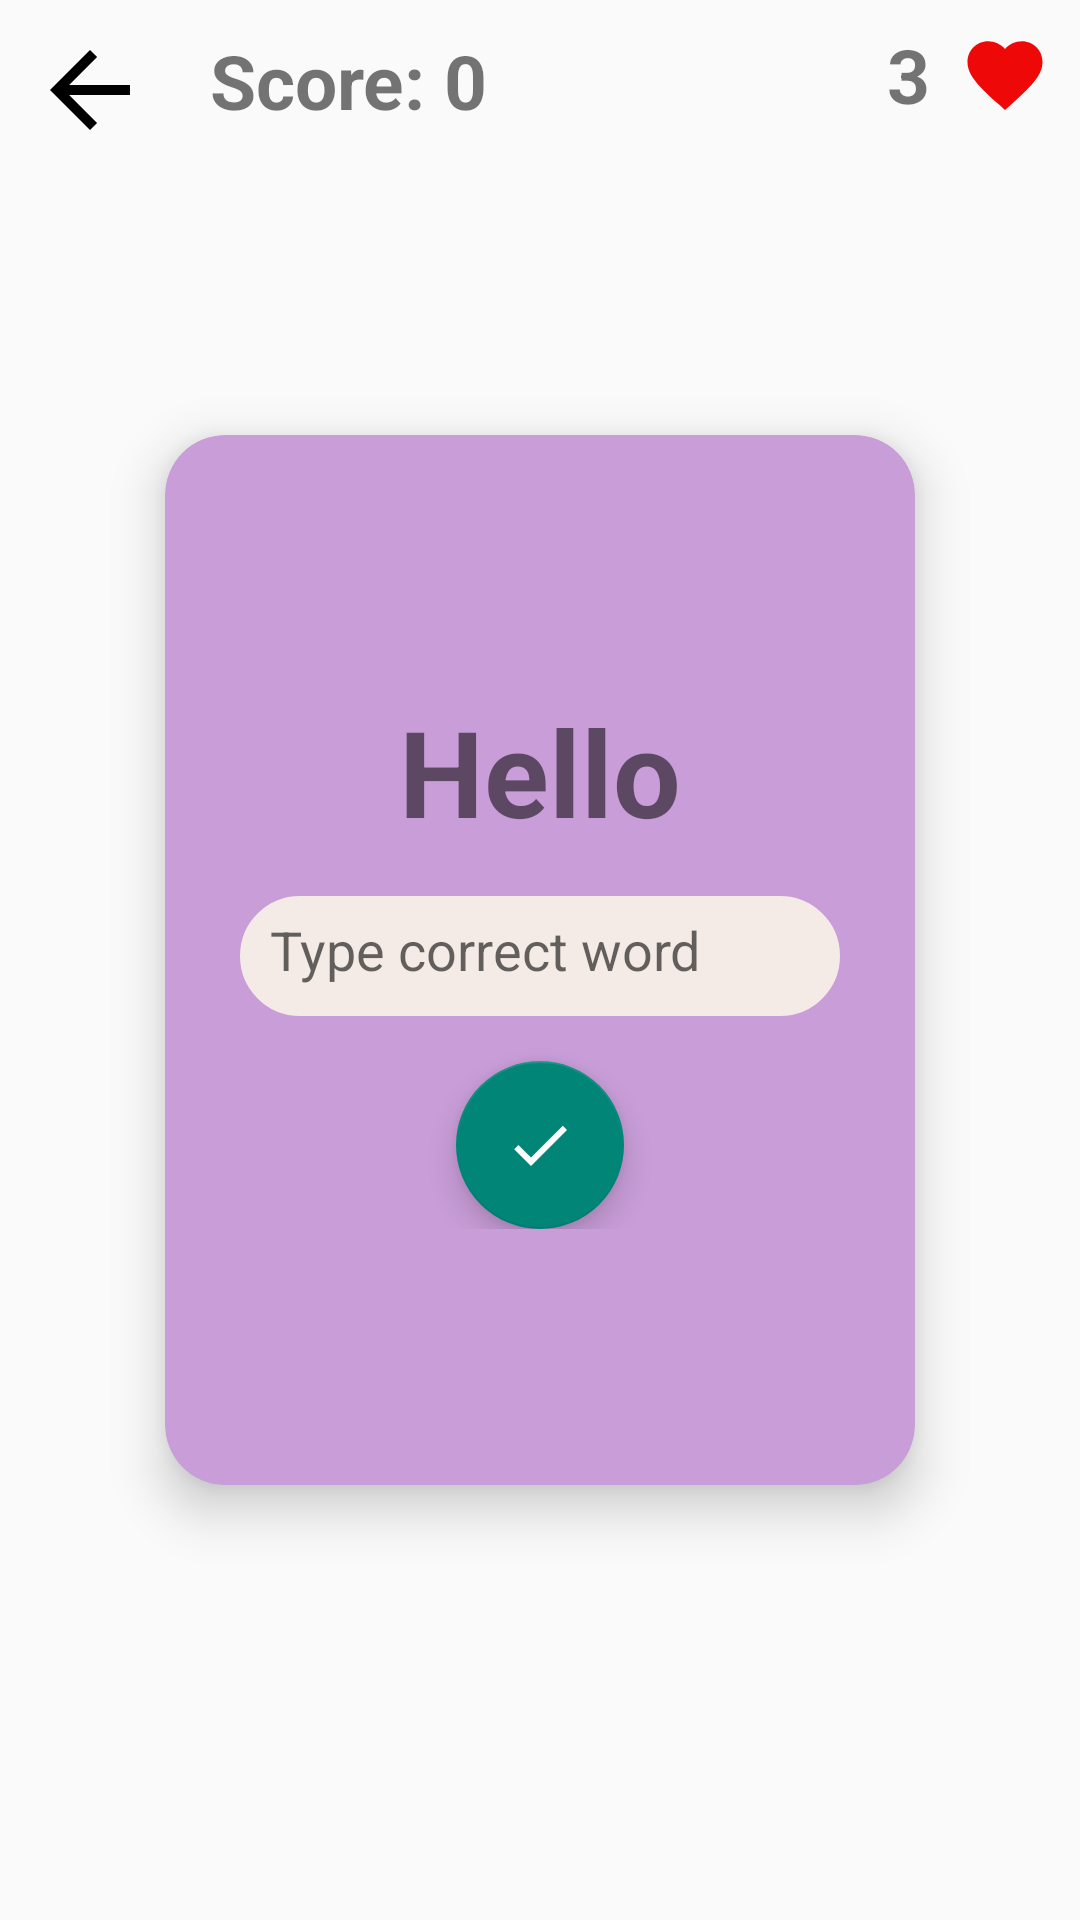

Point at icon controls on the screen. Image size 1080px x 1920px, points as [x,y].
arrow back: [90,90]
done: [540,1145]
favorite: [1005,75]
